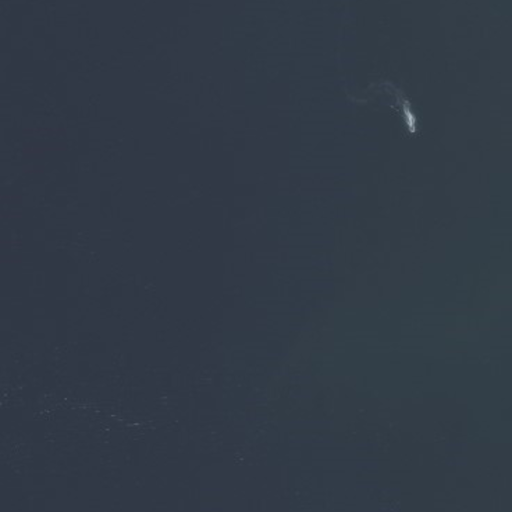ship: (402, 110, 418, 136)
